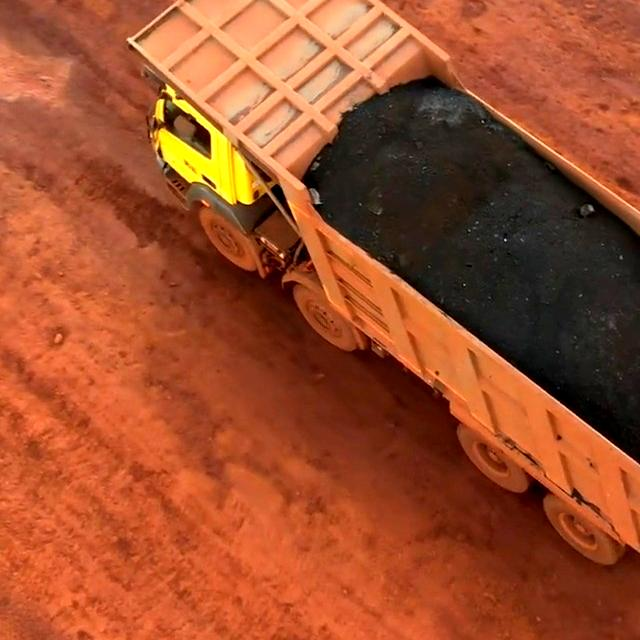Dumper truck: (148, 0, 455, 275), (484, 272, 640, 477)
